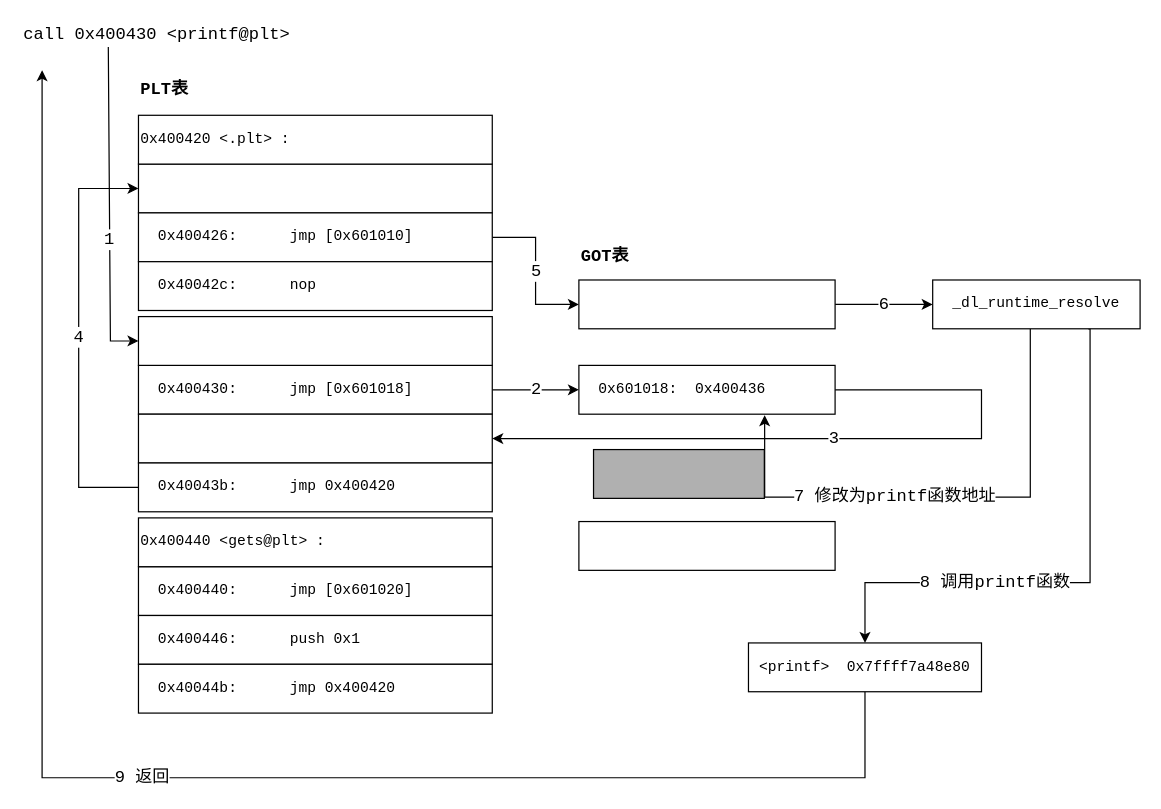
Some shapes in this 1161 by 809 pixel diagram are drawn without their labels. Each missing label, with the centre of its shape:
"0x400420: push [0x601008]" belongs at pixel 314 188.
"0x400430 <printf@plt> :" belongs at pixel 314 340.
"0x400436: push 0x0" belongs at pixel 314 438.
"0x601010: 0x7ffff7dec680" belongs at pixel 706 304.
"0x601020: 0x400446" belongs at pixel 706 545.
"0x7ffff7a48e80" belongs at pixel 678 473.
